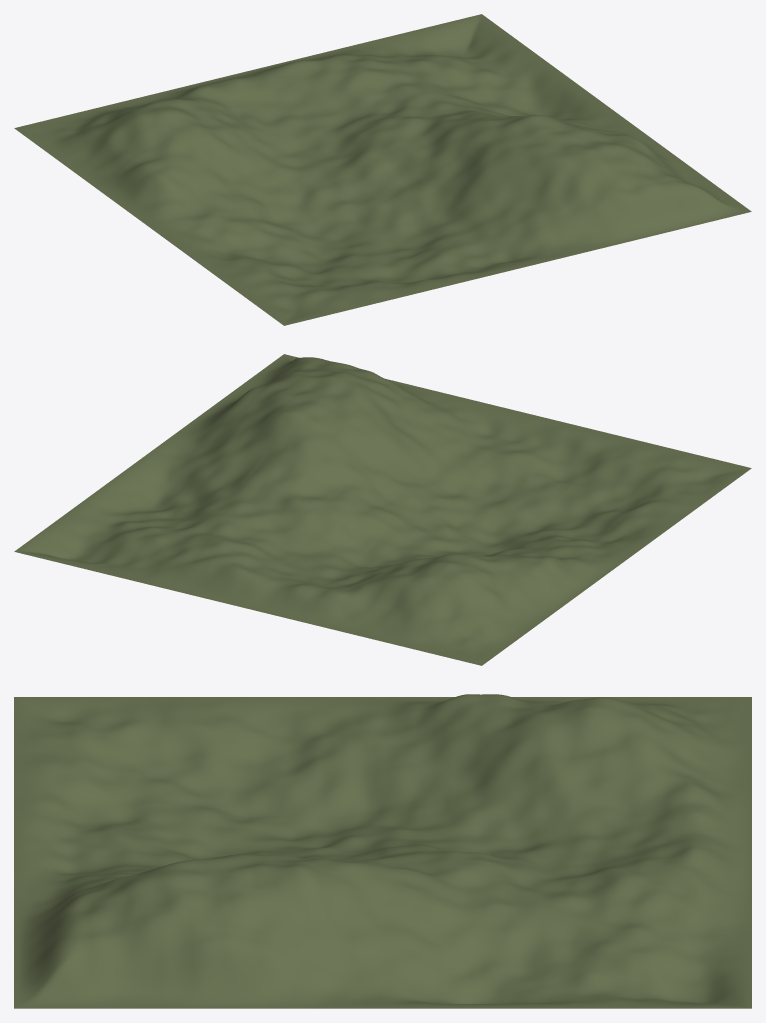
File: Terrain_Forest.fbx
The picture shows the model from 3 angles, top to bottom: view 1: azimuth 30°, elevation 25°; view 2: azimuth 150°, elevation 25°; view 3: azimuth 270°, elevation 25°; orthographic projection. The views are drawn at different scales.
Parts seen in each view (by area): view 1: Terrain_Forest; view 2: Terrain_Forest; view 3: Terrain_Forest.
Part boxes in pixels (<box>): Terrain_Forest: <box>14,14,751,325</box>; Terrain_Forest: <box>14,354,751,665</box>; Terrain_Forest: <box>14,694,751,1008</box>.
Bounding box in the file's own units: 60000 × 8996 × 60000.
